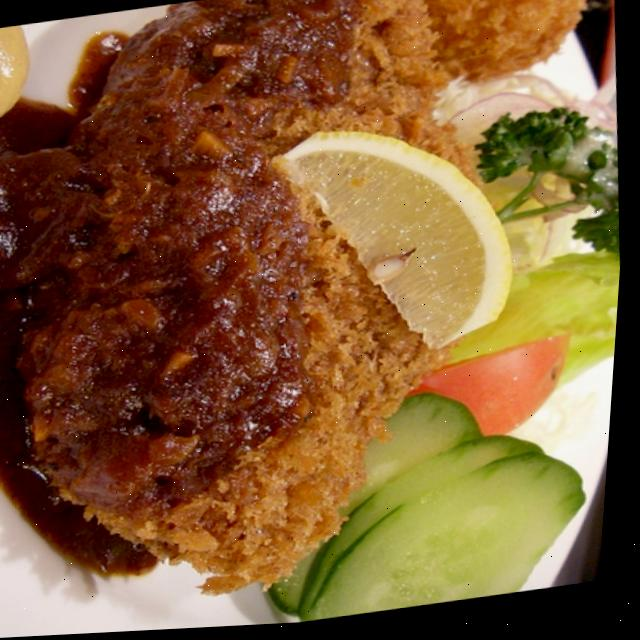炸货点心: (11, 10, 572, 602)
